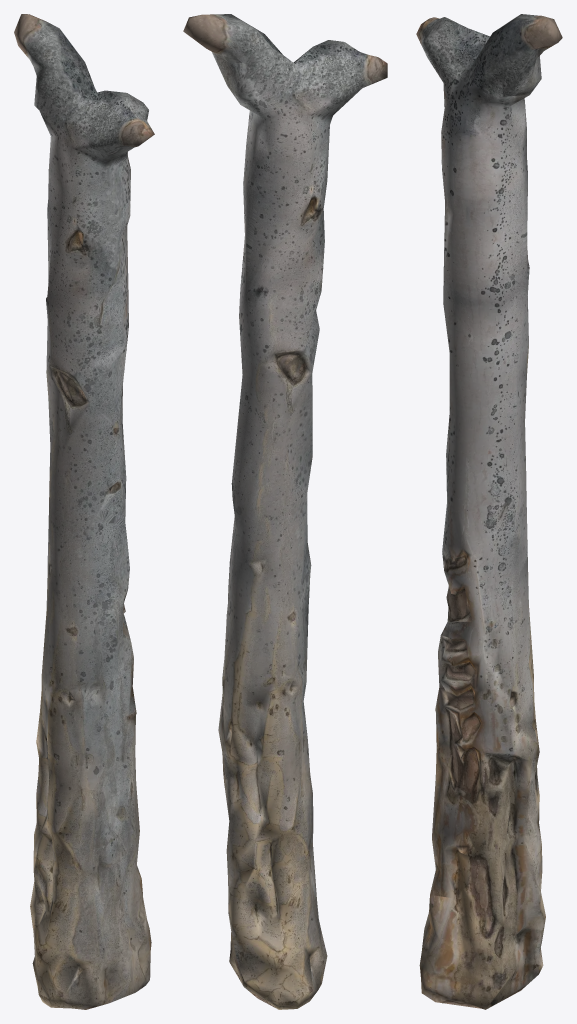
File: dead_quiver_trunk.glb
The picture shows the model from 3 angles, left to right: view 1: azimuth 90°, elevation 25°; view 2: azimuth 150°, elevation 25°; view 3: azimuth 270°, elevation 25°; orthographic projection. The views are drawn at different scales.
Visible parts, largest first — view 1: dead_quiver_trunk_LOD0; view 2: dead_quiver_trunk_LOD0; view 3: dead_quiver_trunk_LOD0.
Part boxes in pixels (<box>): dead_quiver_trunk_LOD0: <box>14,14,154,1009</box>; dead_quiver_trunk_LOD0: <box>183,14,387,1009</box>; dead_quiver_trunk_LOD0: <box>416,14,562,1009</box>.
Size of the model in its own units: 0.3016 by 1.99 by 0.2645.
Materials: 1 (1 with a texture image).
